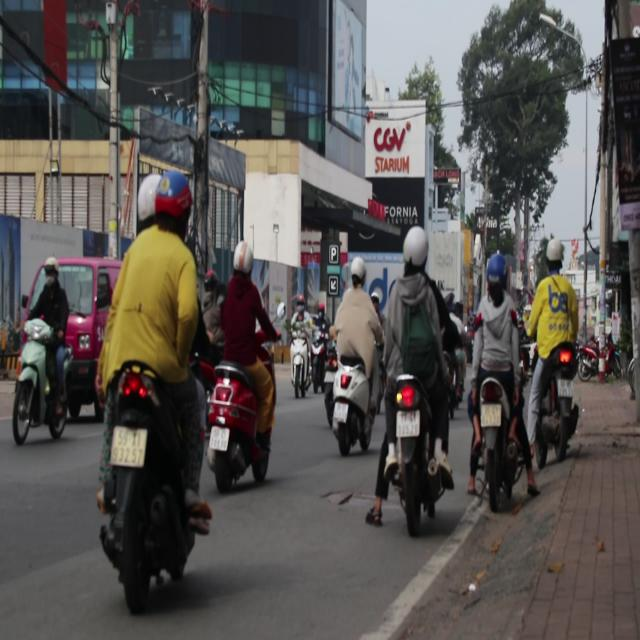motorbike: (94, 359, 214, 606), (369, 365, 449, 538), (204, 360, 268, 494), (473, 368, 525, 518), (11, 324, 71, 444), (327, 346, 377, 456), (540, 338, 584, 458), (290, 330, 310, 404), (578, 339, 602, 386)
truck: (18, 255, 122, 419)
